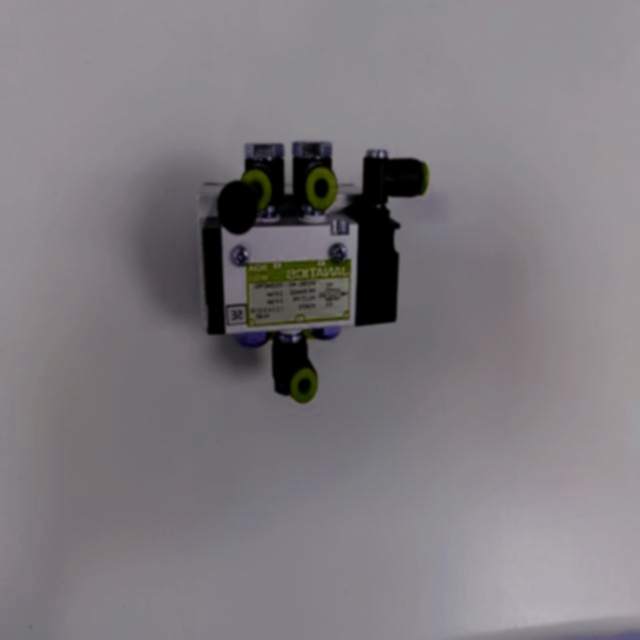5by2 DCV: (187, 120, 438, 415)
